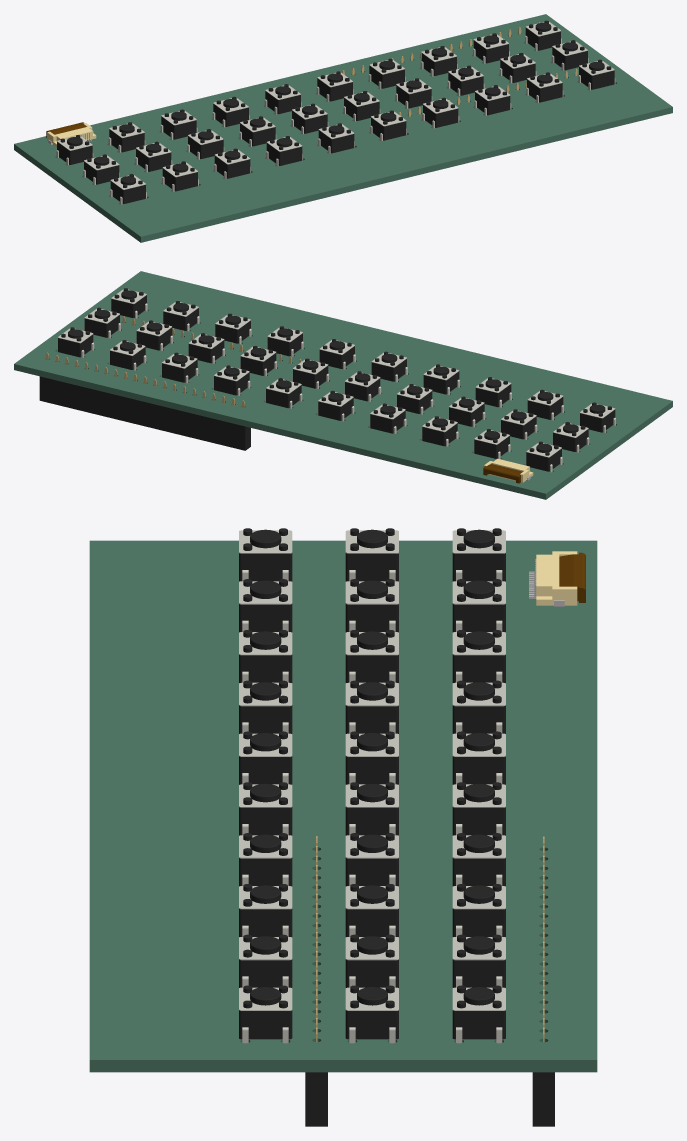
The model's file is razor32pcb.glb.
3 renders of one model, top to bottom at view 1: azimuth 30°, elevation 25°; view 2: azimuth 150°, elevation 25°; view 3: azimuth 270°, elevation 25°, orthographic. The views are drawn at different scales.
Parts seen in each view (by area): view 1: =>[0:1:1:5], enter, b, v, c, n, fun, m, space, x, z, q (+20 smaller); view 2: =>[0:1:1:5], ESP32PinSocket_1, i, u, p, y, e, o, w, r, t, q (+22 smaller); view 3: =>[0:1:1:5], ret, p, enter, g, r, b, t, q, y, z, space (+23 smaller).
Part boxes in pixels (<box>): =>[0:1:1:5]: <box>14,14,672,242</box>; enter: <box>578,59,615,90</box>; b: <box>318,123,354,153</box>; v: <box>266,136,302,166</box>; c: <box>214,148,250,179</box>; n: <box>422,97,459,128</box>; fun: <box>526,72,563,102</box>; m: <box>474,85,511,115</box>; space: <box>370,110,406,140</box>; x: <box>162,161,198,191</box>; z: <box>110,174,146,204</box>; q: <box>56,135,93,165</box>; =>[0:1:1:5]: <box>14,271,672,499</box>; ESP32PinSocket_1: <box>39,352,250,450</box>; i: <box>161,352,198,383</box>; u: <box>213,365,250,395</box>; p: <box>57,327,94,357</box>; y: <box>265,378,302,408</box>; e: <box>421,416,458,446</box>; o: <box>109,340,146,370</box>; w: <box>473,429,510,459</box>; r: <box>369,403,406,433</box>; t: <box>317,390,354,421</box>; q: <box>525,441,562,472</box>; =>[0:1:1:5]: <box>89,540,597,1072</box>; ret: <box>345,985,398,1043</box>; p: <box>452,985,505,1043</box>; enter: <box>239,985,292,1043</box>; g: <box>345,731,398,784</box>; r: <box>452,680,505,733</box>; b: <box>239,731,292,784</box>; t: <box>452,731,505,784</box>; q: <box>452,528,505,581</box>; y: <box>452,782,505,835</box>; z: <box>239,528,292,581</box>; space: <box>239,782,292,835</box>.
Size of the model in its own units: 0.138 by 0.0145 by 0.057.
